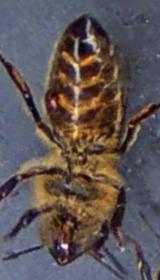varroa_mite: (40, 78, 64, 130)
